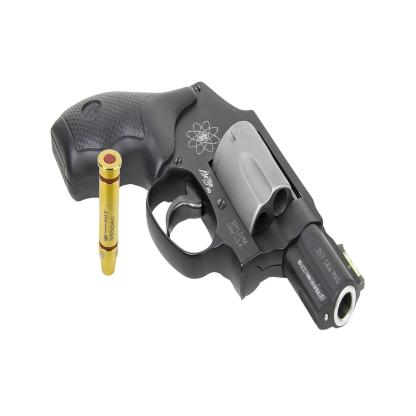handgun: (48, 81, 365, 331)
